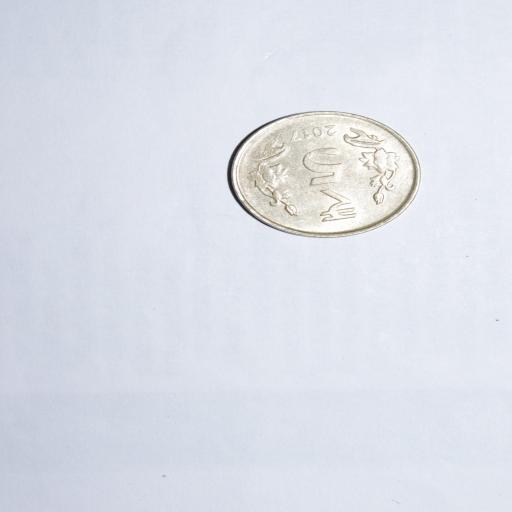rupee5: (222, 108, 425, 238)
